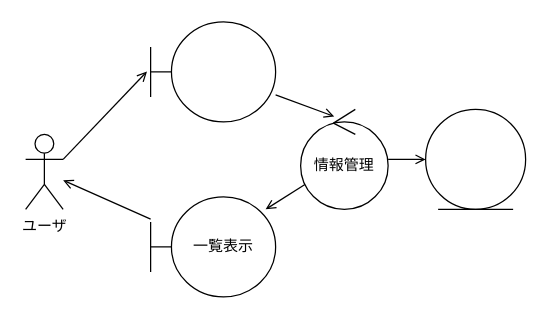
Some shapes in this 548 by 319 pixel diagram are drawn without their labels. The centre of each missing label's shape, as x and y in pixels:
システムメニュー: (x=212, y=71)
情報: (x=475, y=158)
